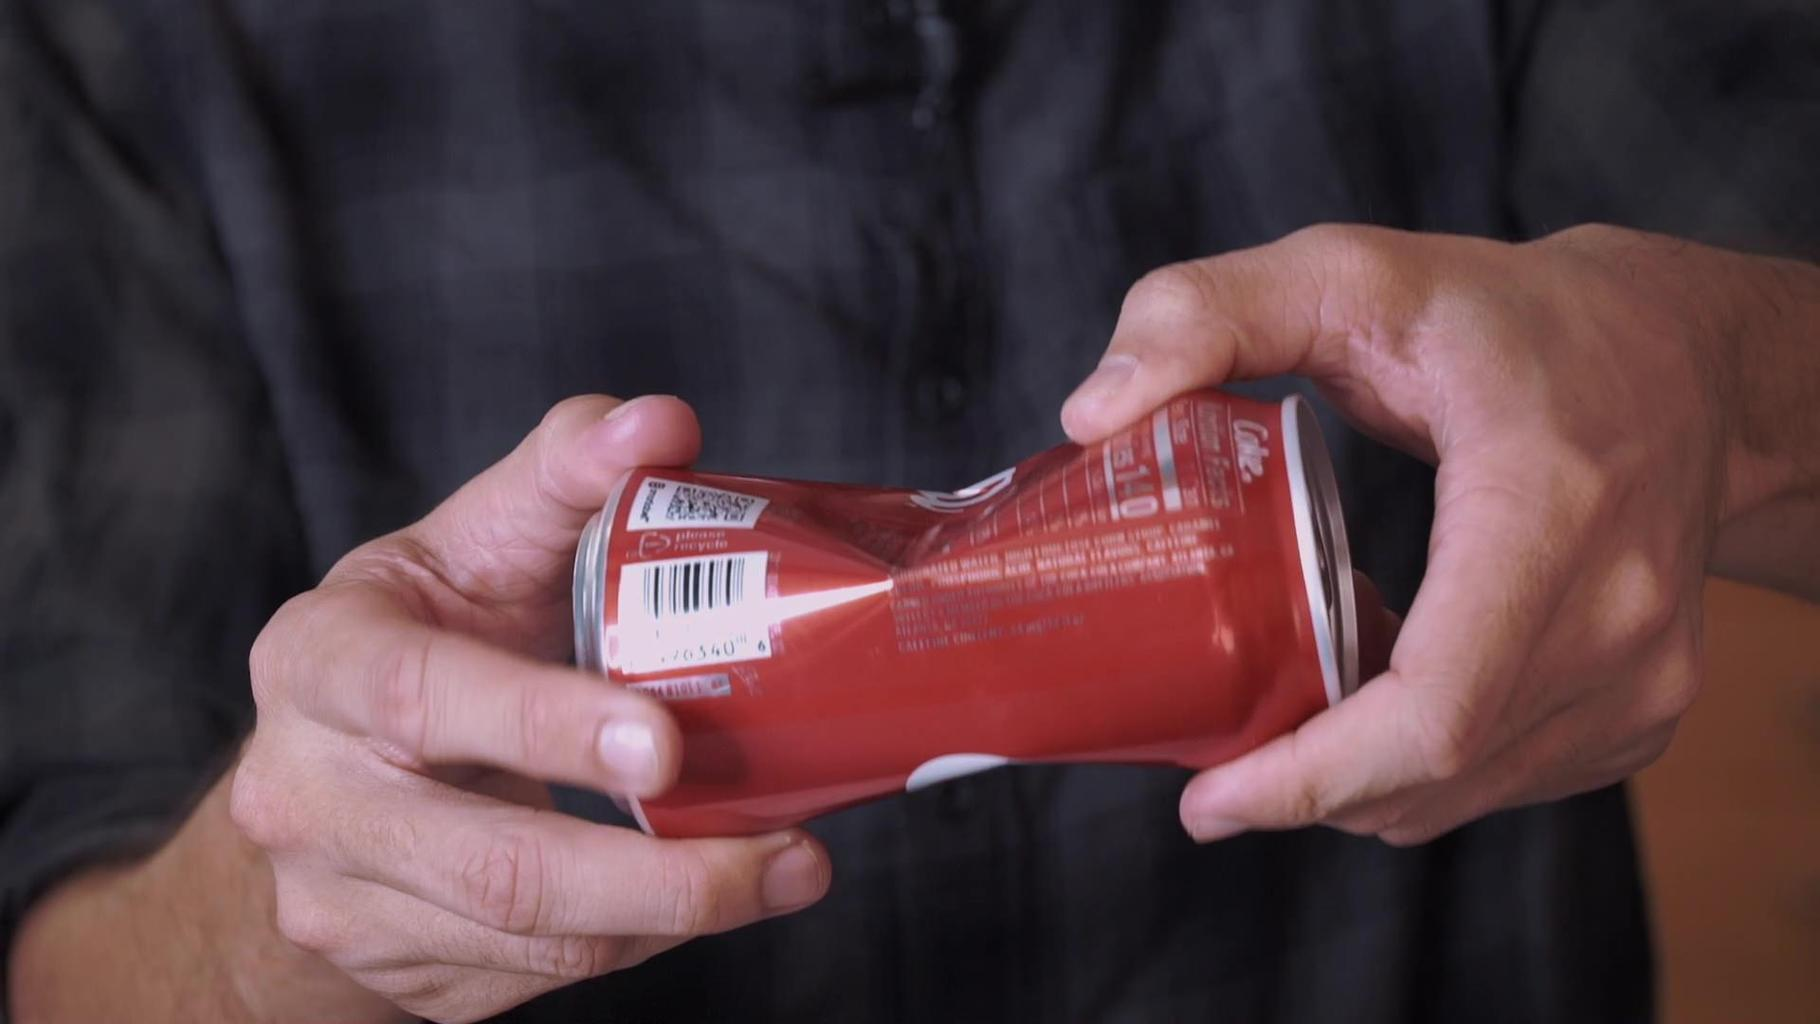can: (556, 381, 1429, 846)
